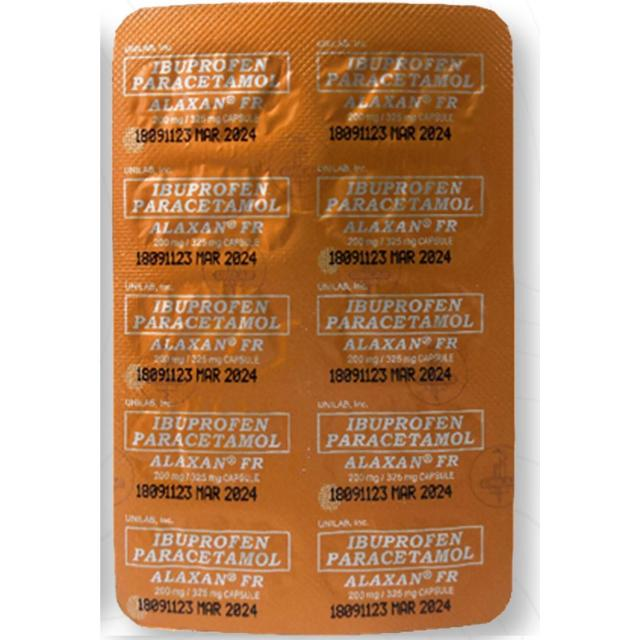blister: (108, 5, 520, 638)
